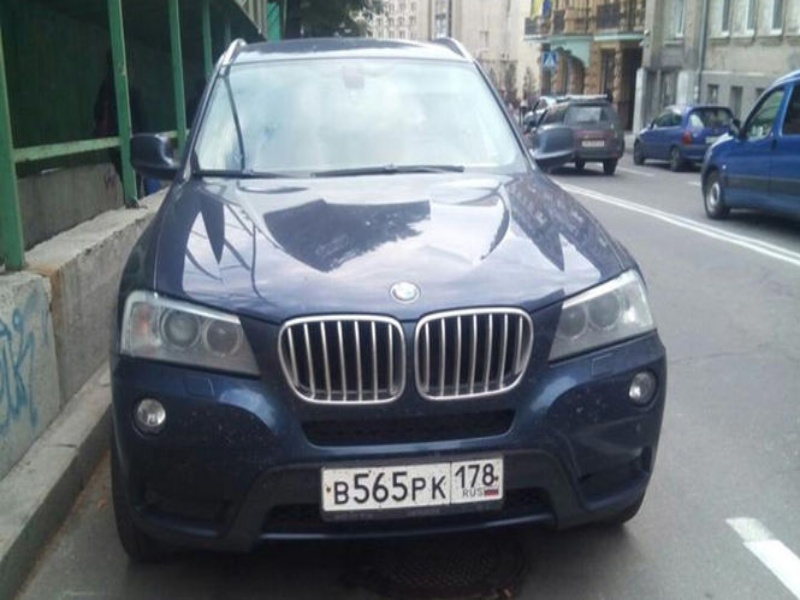car: (111, 37, 668, 558), (702, 70, 800, 220), (632, 104, 739, 171), (535, 103, 624, 174)
plate: (323, 459, 504, 508)
